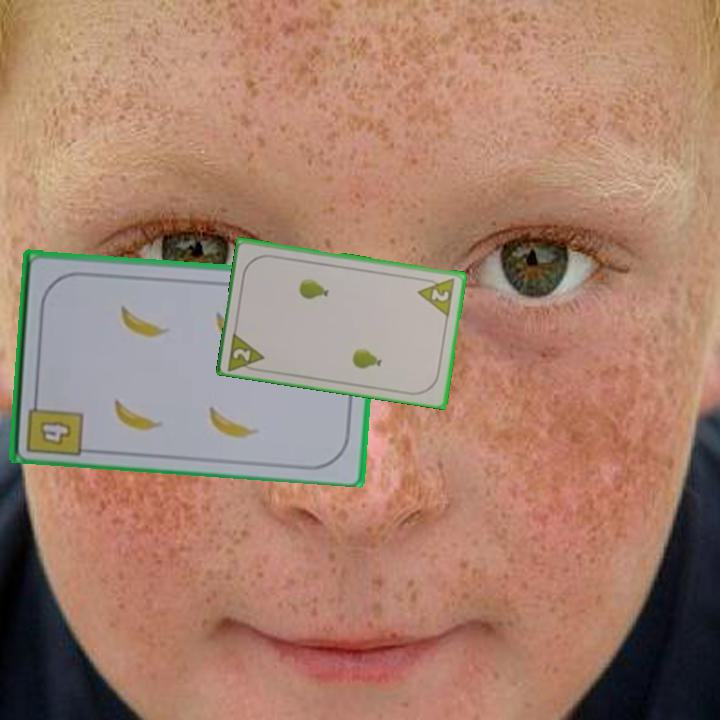2p: (225, 327, 268, 372), (415, 274, 458, 318)
4b: (22, 390, 85, 458)
